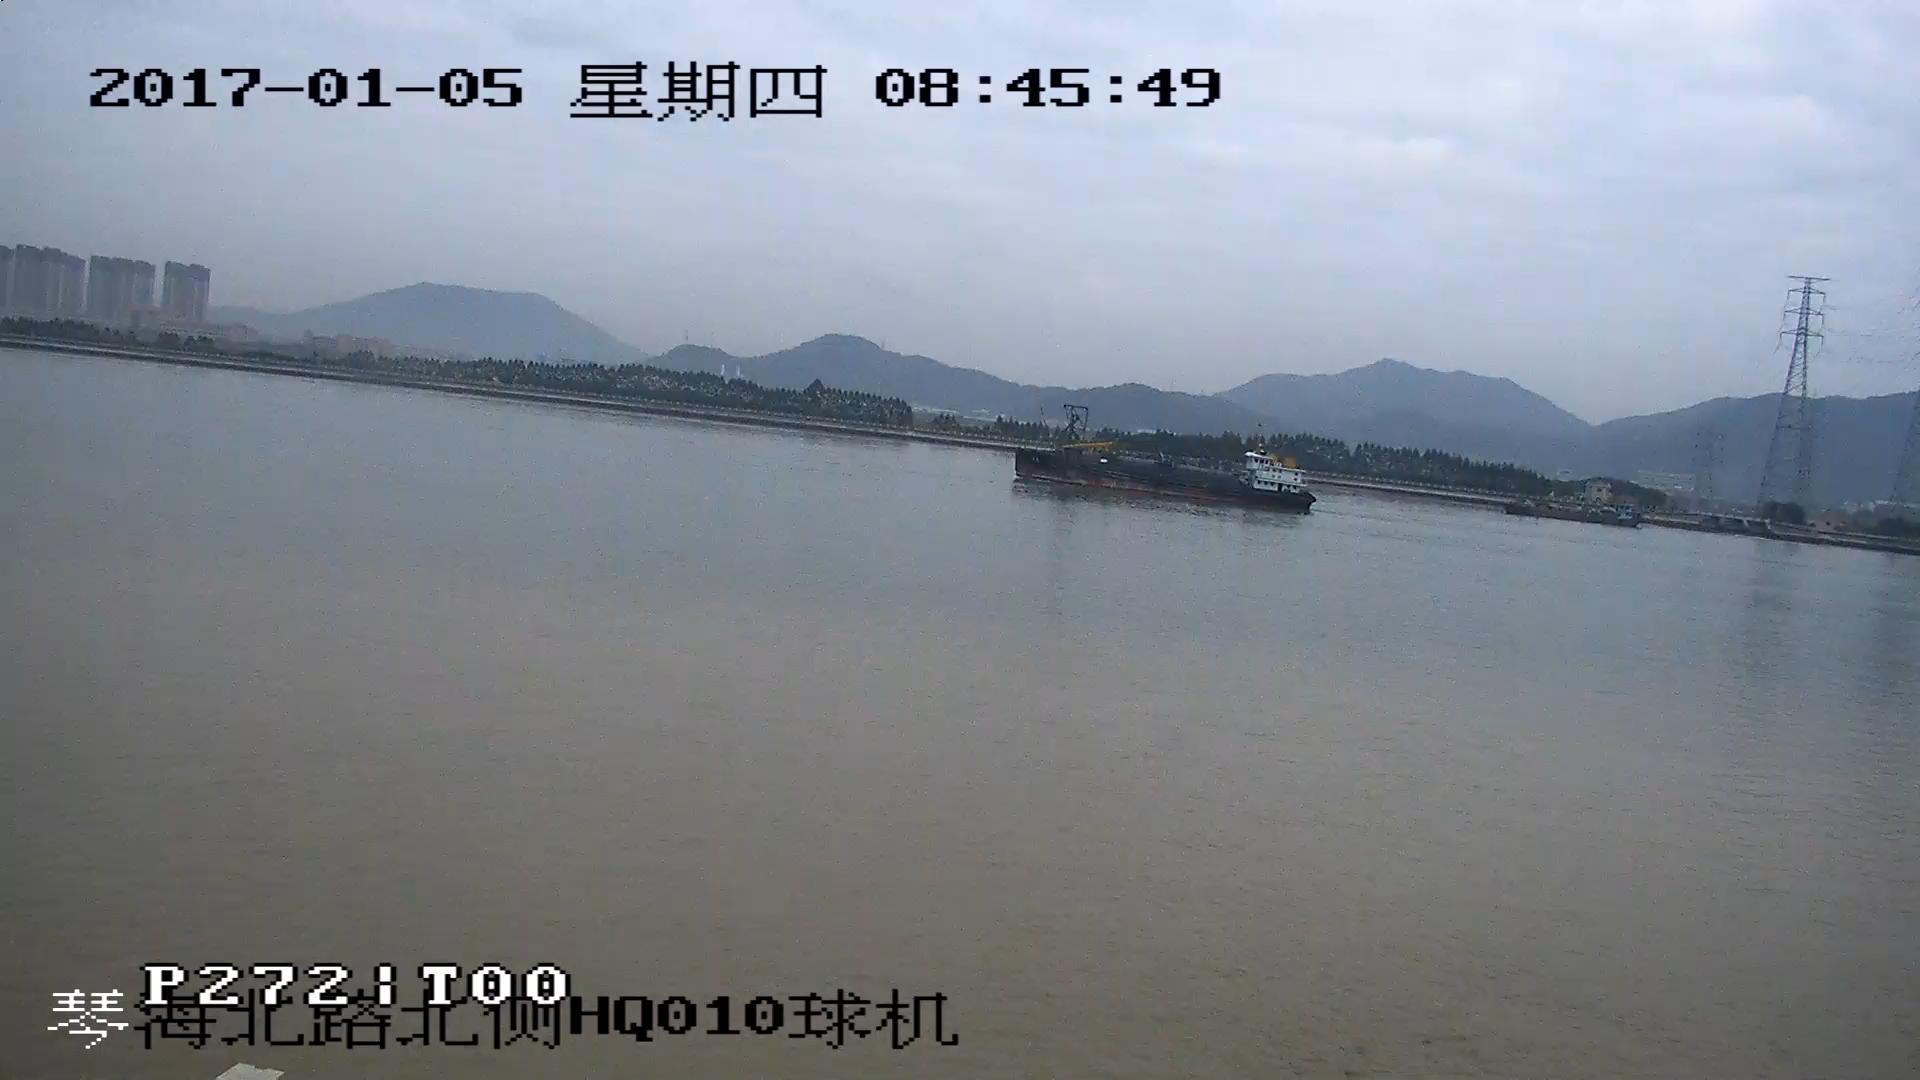bulk cargo carrier: (1014, 409, 1309, 516)
